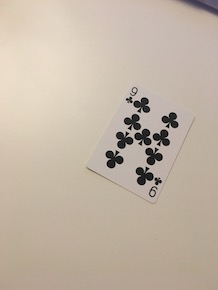NineOfClubs: (78, 79, 197, 205)
